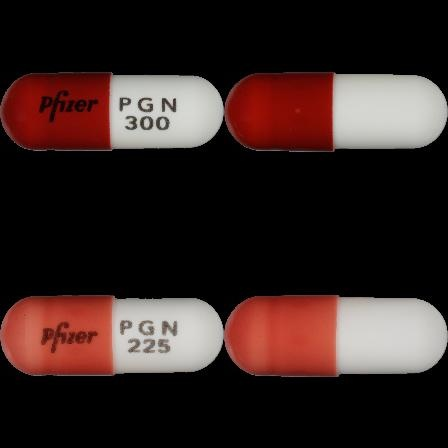0071-1018: (0, 0, 224, 224)
